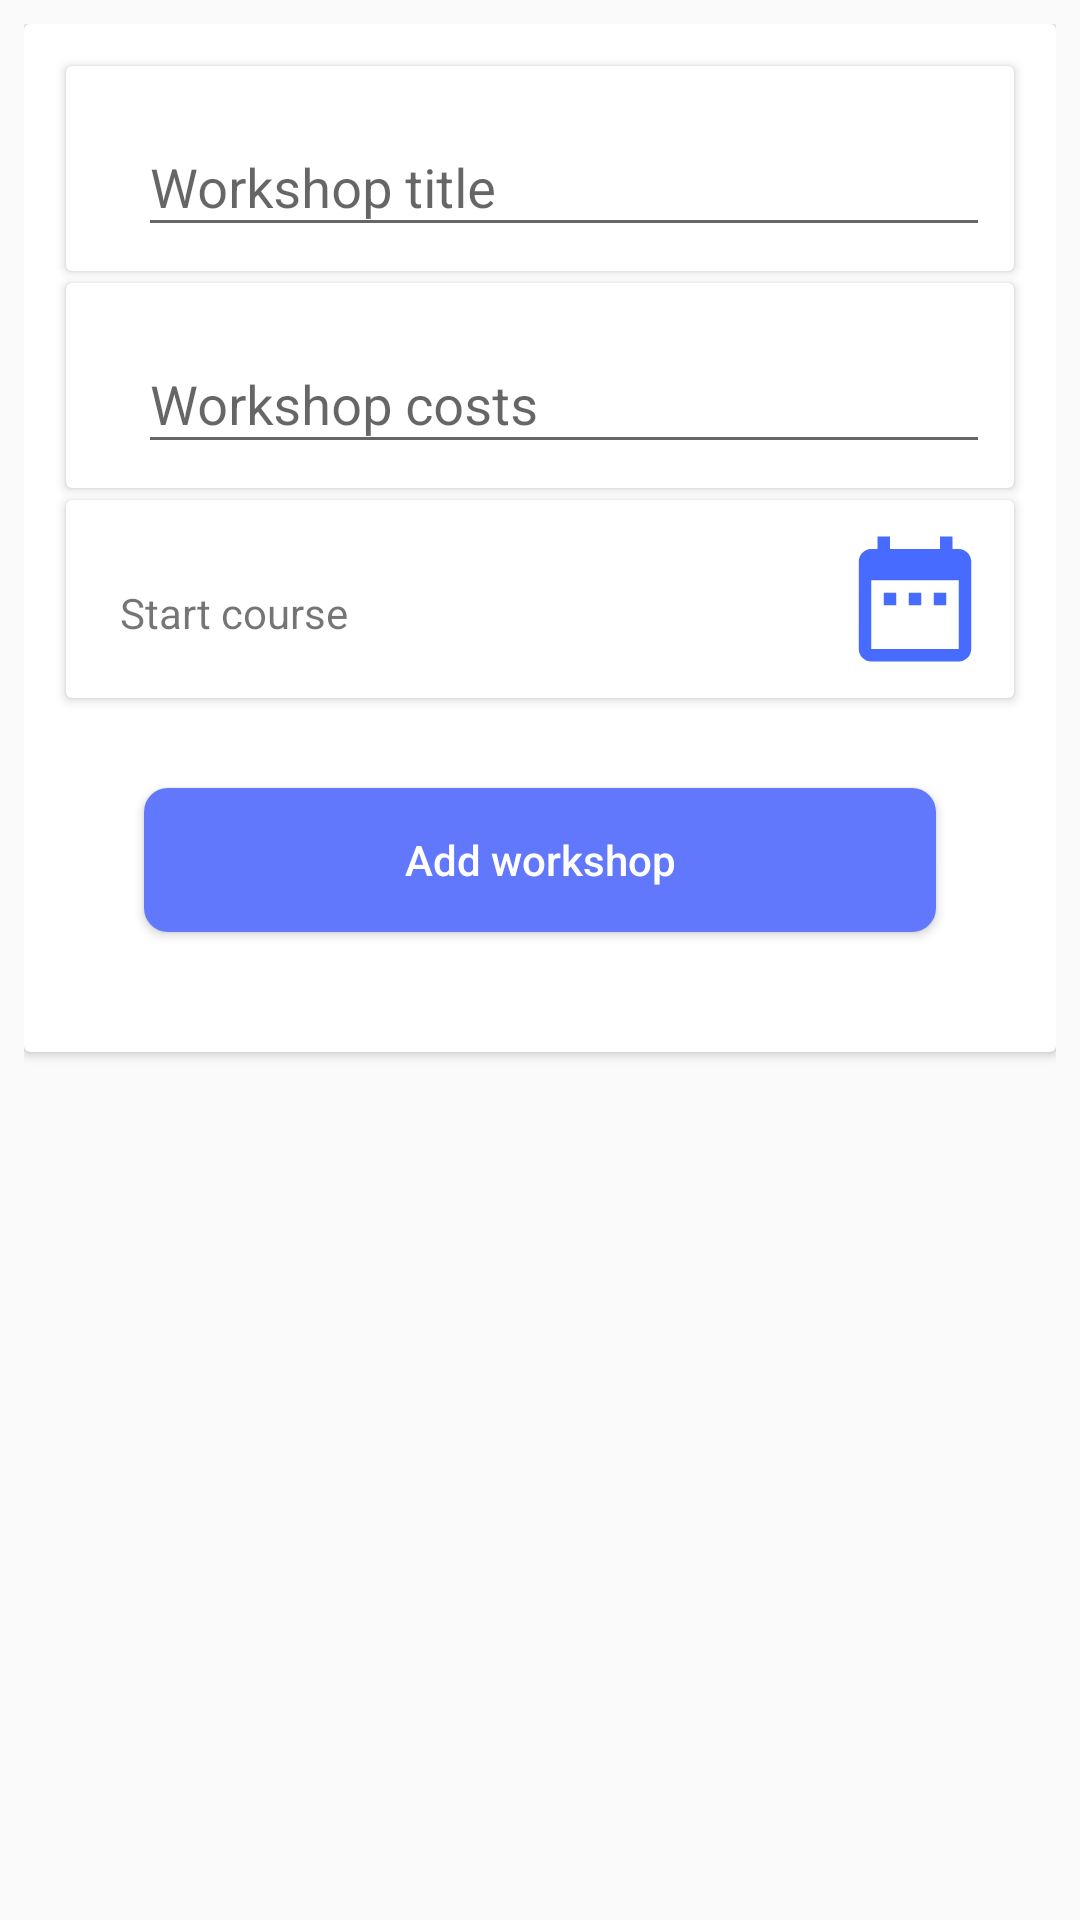

Icon bounding boxes for this 1080×1920 phone screenshot, format [x1=x1, y1=y1, x2=x2, y2=y2]:
date range: [x1=858, y1=536, x2=972, y2=662]
